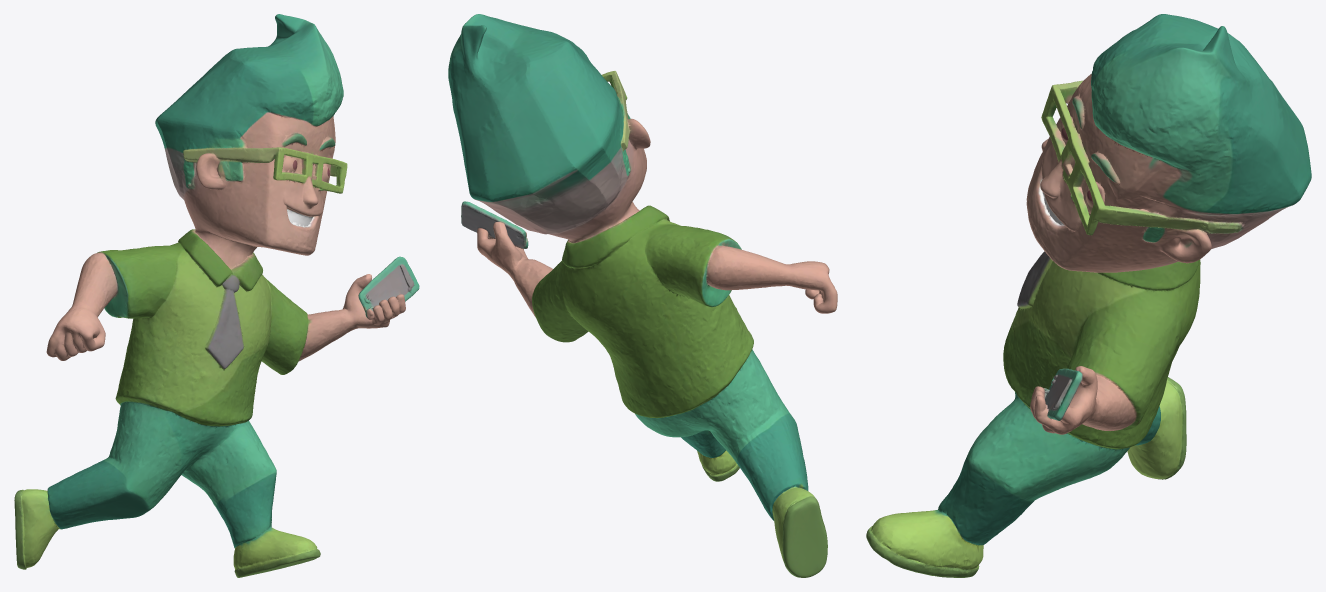
The model's file is mbti_enfp-textured-x200_compresseds.glb.
The picture shows the model from 3 angles, left to right: view 1: azimuth 30°, elevation 25°; view 2: azimuth 150°, elevation 25°; view 3: azimuth 270°, elevation 25°; orthographic projection. The views are drawn at different scales.
Visible parts, largest first — view 1: mesh_0; view 2: mesh_0; view 3: mesh_0.
Part boxes in pixels (box(x1,y1,x2,y2)): mesh_0: box(14, 14, 419, 577); mesh_0: box(448, 14, 837, 577); mesh_0: box(866, 14, 1311, 577).
Bounding box in the file's own units: 334 × 400 × 254.
Materials: 1 (1 with a texture image).
